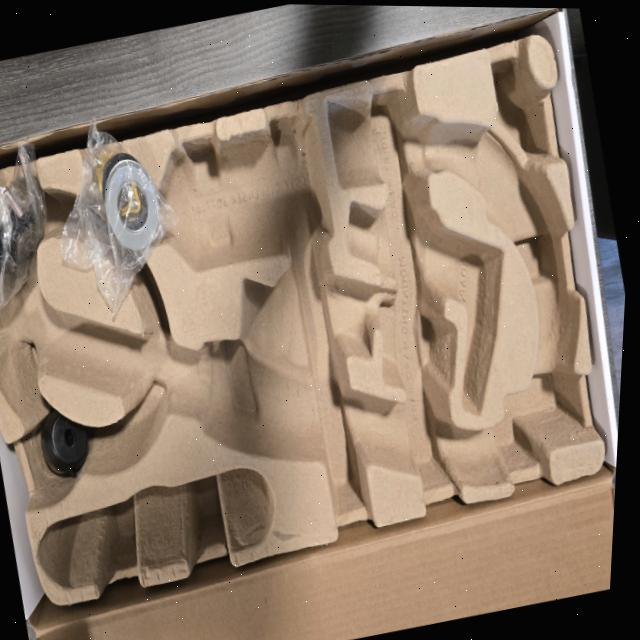1m: (0, 99, 573, 479)
2m: (348, 202, 499, 411)
3m: (128, 114, 333, 272)
4m: (36, 464, 272, 581)
5: (40, 410, 87, 477)
6: (60, 117, 177, 324)
7: (0, 137, 46, 307)
